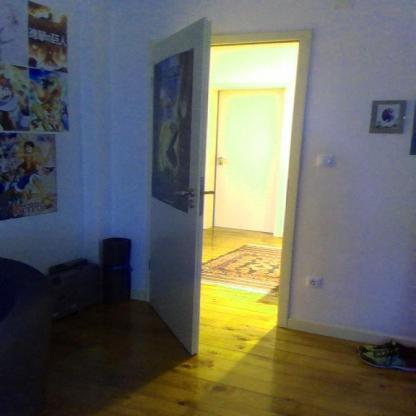door: (140, 13, 324, 367)
